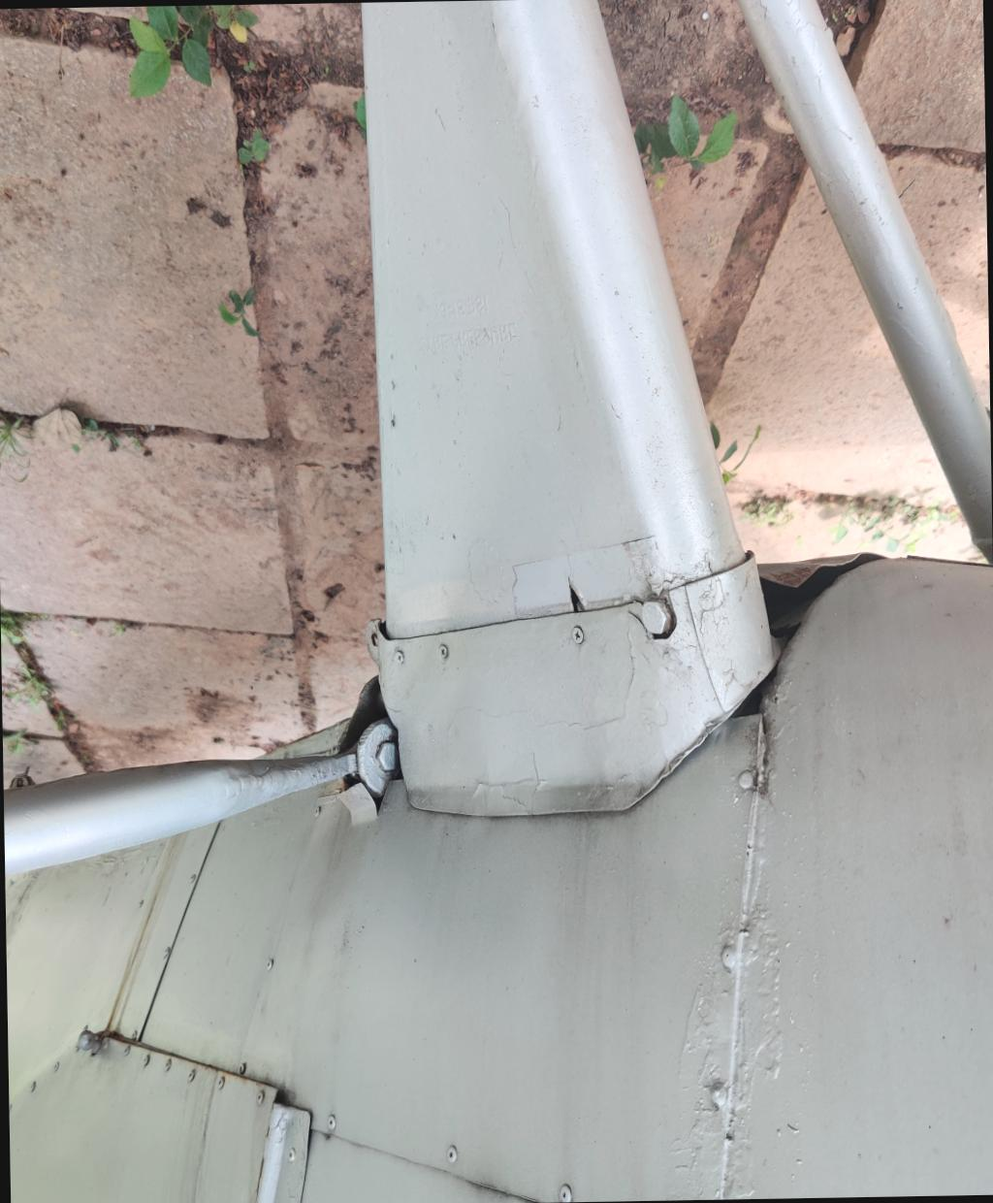crack: (545, 561, 617, 635)
